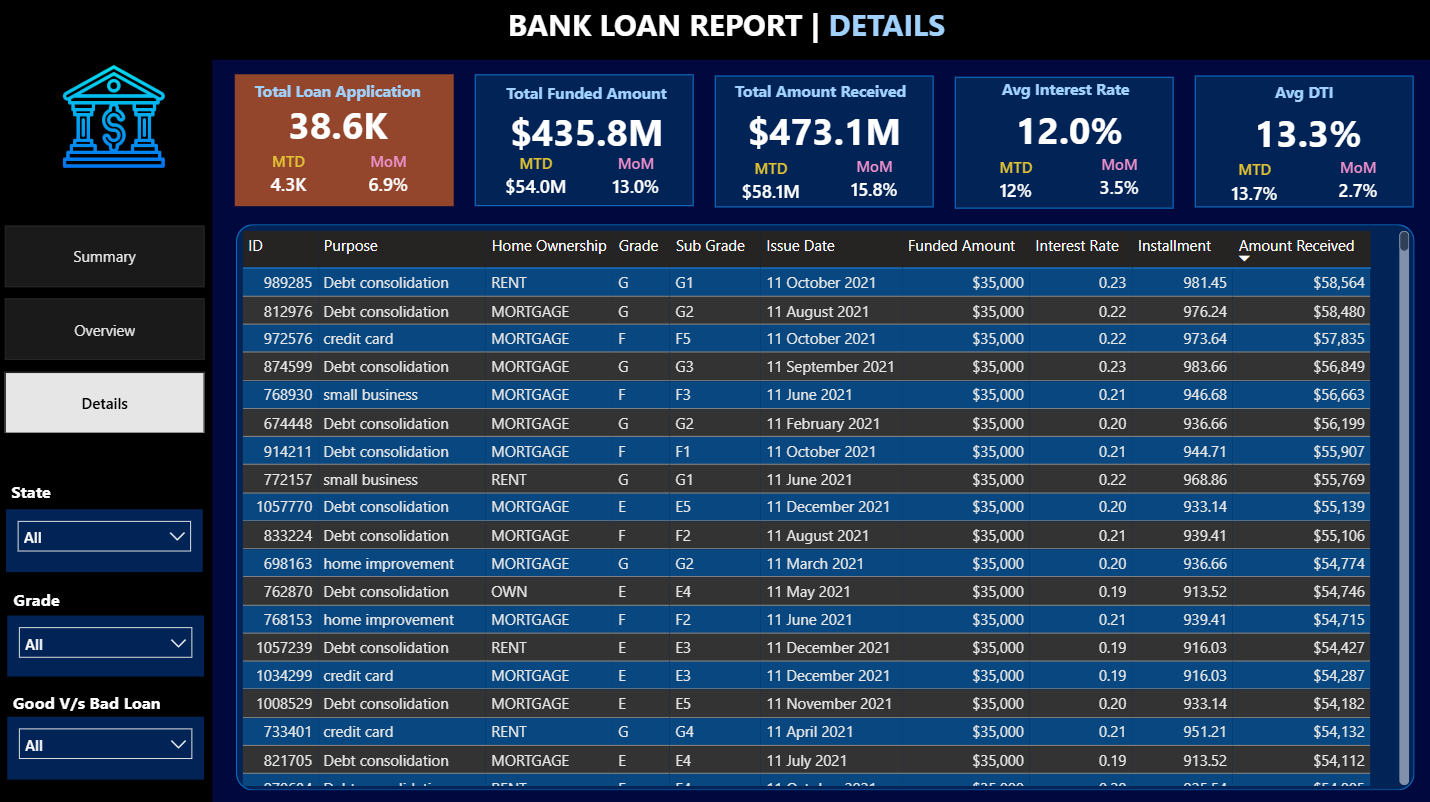

The page's visual inventory and layout, read from the dashboard file:
{"tool":"powerbi","page":{"name":"Details","canvas":[1280,720],"ordinal":2},"visuals":[{"type":"textbox","box":[855,66.2,195,32.5],"z":0,"group":"g9"},{"type":"textbox","box":[163.8,67.5,281.2,32.5],"z":0,"group":"g6"},{"type":"card","fields":{"Values":["Count(Bank Loan.id)"]},"box":[213.4,67.5,182,91.2],"z":0,"group":"g1"},{"type":"textbox","box":[636.2,67.5,195,32.5],"z":0,"group":"g8"},{"type":"textbox","box":[1067.5,68.8,195,32.5],"z":0,"group":"g10"},{"type":"card","fields":{"Values":["Measure Table.Avg Intrest Rate"]},"box":[881.3,69.1,151.2,95],"z":0,"group":"g2"},{"type":"textbox","box":[385,70,281.2,32.5],"z":0,"group":"g7"},{"type":"card","fields":{"Values":["Measure Table.Total Amount Received"]},"box":[662.5,70.4,151.2,95],"z":0,"group":"g3"},{"type":"card","fields":{"Values":["Measure Table.Avg DTI"]},"box":[1093.8,71.7,151.2,95],"z":0,"group":"g4"},{"type":"card","fields":{"Values":["Measure Table.Total Funded Amt"]},"box":[435.6,72.9,182.5,91.2],"z":0,"group":"g5"},{"type":"shape","box":[213.5,201.5,1049.6,504.3],"z":0},{"type":"textbox","box":[6.7,424.5,49.5,33.8],"z":0,"group":"g12"},{"type":"textbox","box":[191,471.8,153.2,33.8],"z":0,"group":"g11"},{"type":"textbox","box":[-0.6,520.5,74.8,33.8],"z":0,"group":"g13"},{"type":"textbox","box":[-0.6,611.8,164.1,35],"z":0,"group":"g14"},{"type":"shape","box":[0,0,1280,55],"z":1000},{"type":"group","id":"g1","title":"Group 2","box":[213.4,67.5,182,113.8],"z":1000,"group":"g6"},{"type":"group","id":"g2","title":"Group 2","box":[873.2,69.1,160.7,115.7],"z":1000,"group":"g9"},{"type":"group","id":"g3","title":"Group 2","box":[654.4,70.4,160.7,115.7],"z":1000,"group":"g8"},{"type":"group","id":"g4","title":"Group 2","box":[1085.7,71.7,160.7,115.7],"z":1000,"group":"g10"},{"type":"group","id":"g5","title":"Group 2","box":[435.6,72.9,182.5,110.8],"z":1000,"group":"g7"},{"type":"card","title":"MTD","fields":{"Values":["Bank Loan.Total MTD"]},"box":[224.9,135,71.3,46.2],"z":1000,"group":"g1"},{"type":"card","title":"MTD","fields":{"Values":["Measure Table.MTD Funded Amt"]},"box":[446.1,137.5,71.3,46.2],"z":1000,"group":"g5"},{"type":"card","title":"MTD","fields":{"Values":["Measure Table.MTD Avg Intrest Rate"]},"box":[873.2,139.8,71.2,45],"z":1000,"group":"g2"},{"type":"card","title":"MTD","fields":{"Values":["Measure Table.MTD Total Received Amt"]},"box":[654.4,141.1,71.2,45],"z":1000,"group":"g3"},{"type":"card","title":"MTD","fields":{"Values":["Measure Table.MTD Avg DTI"]},"box":[1085.7,142.4,71.2,45],"z":1000,"group":"g4"},{"type":"shape","box":[0,52.5,192.5,665],"z":2000},{"type":"card","title":"MoM","fields":{"Values":["Measure Table.MOM Loan Application"]},"box":[313.9,135,71.3,46.2],"z":2000,"group":"g1"},{"type":"card","title":"MoM","fields":{"Values":["Measure Table.MoM Funded Amt"]},"box":[535.2,137.5,71.3,46.2],"z":2000,"group":"g5"},{"type":"card","title":"MoM","fields":{"Values":["Measure Table.MoM Avg Intrest Rate"]},"box":[967.6,138.6,66.2,46.2],"z":2000,"group":"g2"},{"type":"card","title":"MoM","fields":{"Values":["Measure Table.MoM Total Received Amt"]},"box":[748.8,139.9,66.2,46.2],"z":2000,"group":"g3"},{"type":"card","title":"MoM","fields":{"Values":["Measure Table.MoM Avg DTI"]},"box":[1180.1,141.2,66.2,46.2],"z":2000,"group":"g4"},{"type":"textbox","box":[451.2,0,696.2,67.5],"z":3000},{"type":"shape","box":[212.5,67.5,195,117.5],"z":4000},{"type":"group","id":"g6","title":"Group 1","box":[163.8,67.5,281.2,113.8],"z":5000},{"type":"shape","box":[426.2,67.5,195,117.5],"z":6000},{"type":"group","id":"g7","title":"Group 1","box":[385,70,281.2,113.8],"z":7000},{"type":"shape","box":[640,68.8,195,117.5],"z":8000},{"type":"group","id":"g8","title":"Group 1","box":[636.2,67.5,195,118.6],"z":9000},{"type":"shape","box":[853.8,70,195,117.5],"z":10000},{"type":"group","id":"g9","title":"Group 1","box":[855,66.2,195,118.8],"z":11000},{"type":"shape","box":[1067.5,68.8,195,117.5],"z":12000},{"type":"group","id":"g10","title":"Group 1","box":[1067.5,68.8,195,118.8],"z":13000},{"type":"group","id":"g11","title":"Group 1","box":[191,471.8,153.2,33.8],"z":14000},{"type":"slicer","fields":{"Values":["Bank Loan.address_state"]},"box":[9.2,454.8,175.1,55.9],"z":15000},{"type":"group","id":"g12","title":"Group 1","box":[6.7,424.5,49.8,32.8],"z":16000},{"type":"slicer","fields":{"Values":["Bank Loan.grade"]},"box":[10.4,549.7,175.1,54.7],"z":17000},{"type":"group","id":"g13","title":"Group 1","box":[-0.6,520.5,75.4,34],"z":18000},{"type":"slicer","fields":{"Values":["Bank Loan.Good V/s Bad Loan"]},"box":[10.4,639.7,175.1,55.9],"z":19000},{"type":"group","id":"g14","title":"Group 1","box":[-0.6,611.8,164.1,35],"z":20000},{"type":"tableEx","fields":{"Values":["Bank Loan.id","Bank Loan.purpose","Bank Loan.home_ownership","Bank Loan.grade","Bank Loan.sub_grade","Bank Loan.issue_date","Measure Table.Total Funded Amt","Sum(Bank Loan.int_rate)","Sum(Bank Loan.installment)","Measure Table.Total Amount Received"]},"box":[213.8,202.5,1050,503.8],"z":21000},{"type":"pageNavigator","box":[7.5,202.5,178.8,185],"z":22000},{"type":"image","box":[45,52.5,120,106.2],"z":23000}]}

Visuals, with their boxes on the page's 1280x720 design canvas (x1, y1, x2, y2). These are canvas units, not pixel positions in the 1430x802 screenshot, which may show the page scaled, cropped or inside an application window:
textbox: l=855, t=66, r=1050, b=99
textbox: l=164, t=68, r=445, b=100
card - Count(Bank Loan.id): l=213, t=68, r=395, b=159
textbox: l=636, t=68, r=831, b=100
textbox: l=1068, t=69, r=1262, b=101
card - Measure Table.Avg Intrest Rate: l=881, t=69, r=1032, b=164
textbox: l=385, t=70, r=666, b=102
card - Measure Table.Total Amount Received: l=662, t=70, r=814, b=165
card - Measure Table.Avg DTI: l=1094, t=72, r=1245, b=167
card - Measure Table.Total Funded Amt: l=436, t=73, r=618, b=164
shape: l=214, t=202, r=1263, b=706
textbox: l=7, t=424, r=56, b=458
textbox: l=191, t=472, r=344, b=506
textbox: l=-1, t=520, r=74, b=554
textbox: l=-1, t=612, r=164, b=647
shape: l=0, t=0, r=1280, b=55
"Group 2" group: l=213, t=68, r=395, b=181
"Group 2" group: l=873, t=69, r=1034, b=185
"Group 2" group: l=654, t=70, r=815, b=186
"Group 2" group: l=1086, t=72, r=1246, b=187
"Group 2" group: l=436, t=73, r=618, b=184
"MTD" card: l=225, t=135, r=296, b=181
"MTD" card: l=446, t=138, r=517, b=184
"MTD" card: l=873, t=140, r=944, b=185
"MTD" card: l=654, t=141, r=726, b=186
"MTD" card: l=1086, t=142, r=1157, b=187
shape: l=0, t=52, r=192, b=718
"MoM" card: l=314, t=135, r=385, b=181
"MoM" card: l=535, t=138, r=606, b=184
"MoM" card: l=968, t=139, r=1034, b=185
"MoM" card: l=749, t=140, r=815, b=186
"MoM" card: l=1180, t=141, r=1246, b=187
textbox: l=451, t=0, r=1147, b=68
shape: l=212, t=68, r=408, b=185
"Group 1" group: l=164, t=68, r=445, b=181
shape: l=426, t=68, r=621, b=185
"Group 1" group: l=385, t=70, r=666, b=184
shape: l=640, t=69, r=835, b=186
"Group 1" group: l=636, t=68, r=831, b=186
shape: l=854, t=70, r=1049, b=188
"Group 1" group: l=855, t=66, r=1050, b=185
shape: l=1068, t=69, r=1262, b=186
"Group 1" group: l=1068, t=69, r=1262, b=188
"Group 1" group: l=191, t=472, r=344, b=506
slicer - Bank Loan.address_state: l=9, t=455, r=184, b=511
"Group 1" group: l=7, t=424, r=56, b=457
slicer - Bank Loan.grade: l=10, t=550, r=186, b=604
"Group 1" group: l=-1, t=520, r=75, b=554
slicer - Bank Loan.Good V/s Bad Loan: l=10, t=640, r=186, b=696
"Group 1" group: l=-1, t=612, r=164, b=647
tableEx - Bank Loan.id x Bank Loan.purpose: l=214, t=202, r=1264, b=706
pageNavigator: l=8, t=202, r=186, b=388
image: l=45, t=52, r=165, b=159
